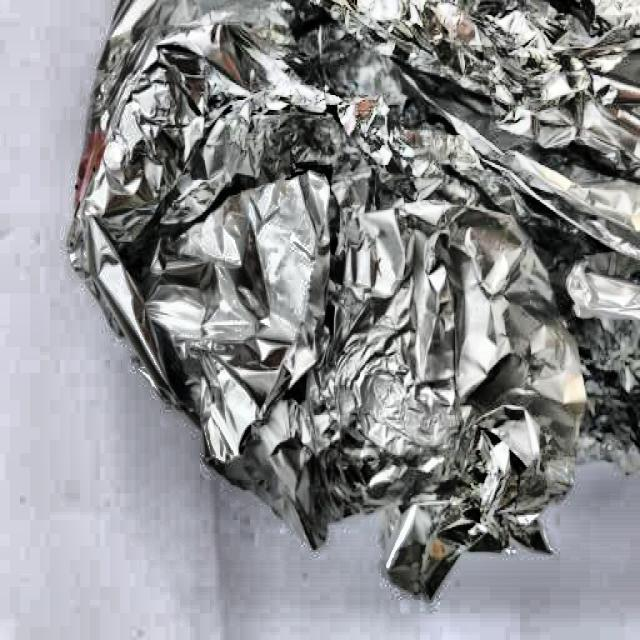metal: (71, 4, 640, 583)
